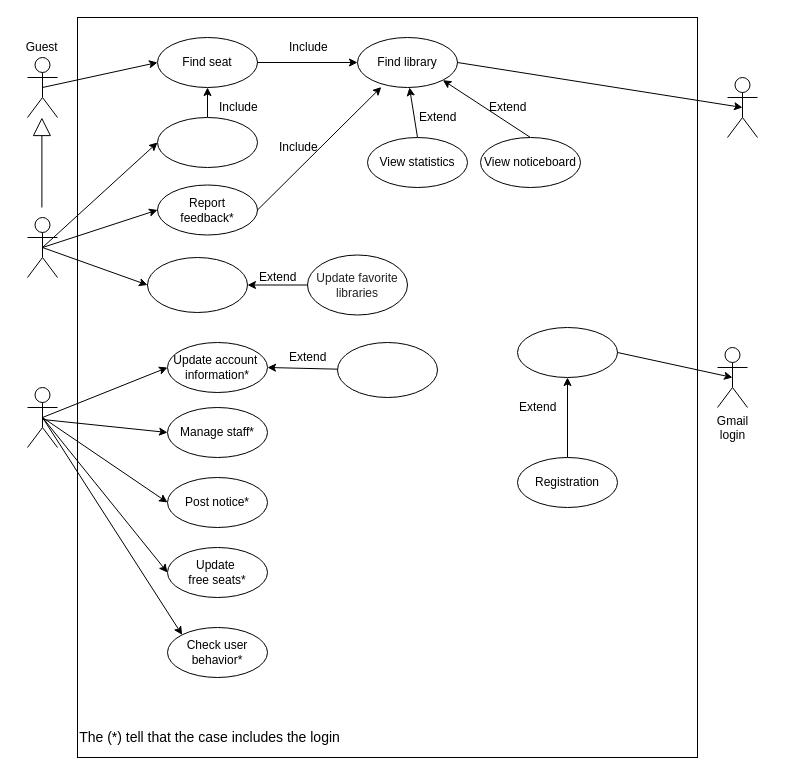
The diagram is 785 pixels wide and 775 high, and some of its shapes have lost their labels. Each missing label, with the box of its shape:
Book seat*: (156, 116, 258, 168)
Google Maps API: (726, 76, 758, 138)
Librarian: (26, 386, 58, 448)
Login*: (516, 326, 618, 378)
Manage personal information*: (146, 256, 248, 312)
Student: (26, 216, 58, 278)
Update library services: (336, 342, 438, 398)
